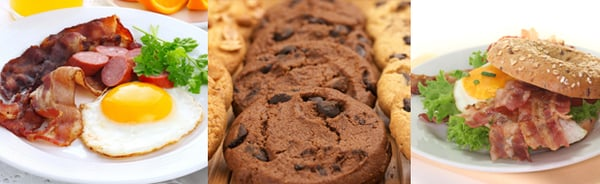curry: (132, 32, 207, 95), (446, 114, 491, 153)
soup: (213, 2, 395, 181), (449, 28, 600, 163)
taco: (100, 81, 172, 123), (150, 0, 188, 14)
